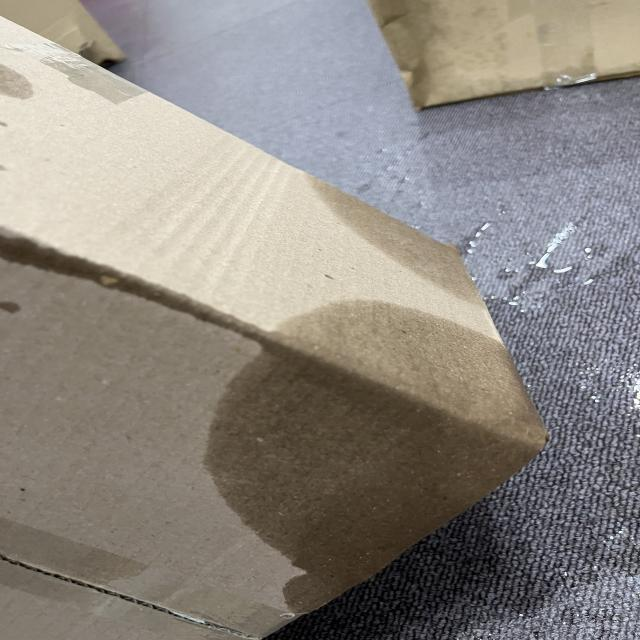wet: (205, 159, 533, 621)
